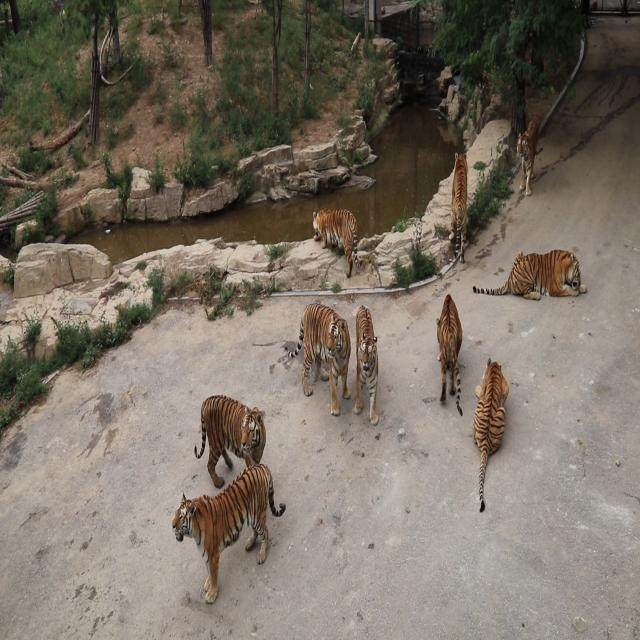Tiger: (171, 462, 286, 603), (283, 302, 352, 416), (352, 297, 394, 466), (194, 395, 267, 488), (472, 245, 586, 302), (470, 356, 510, 513), (311, 204, 363, 278), (436, 293, 466, 419), (448, 150, 468, 264), (516, 117, 544, 197)
